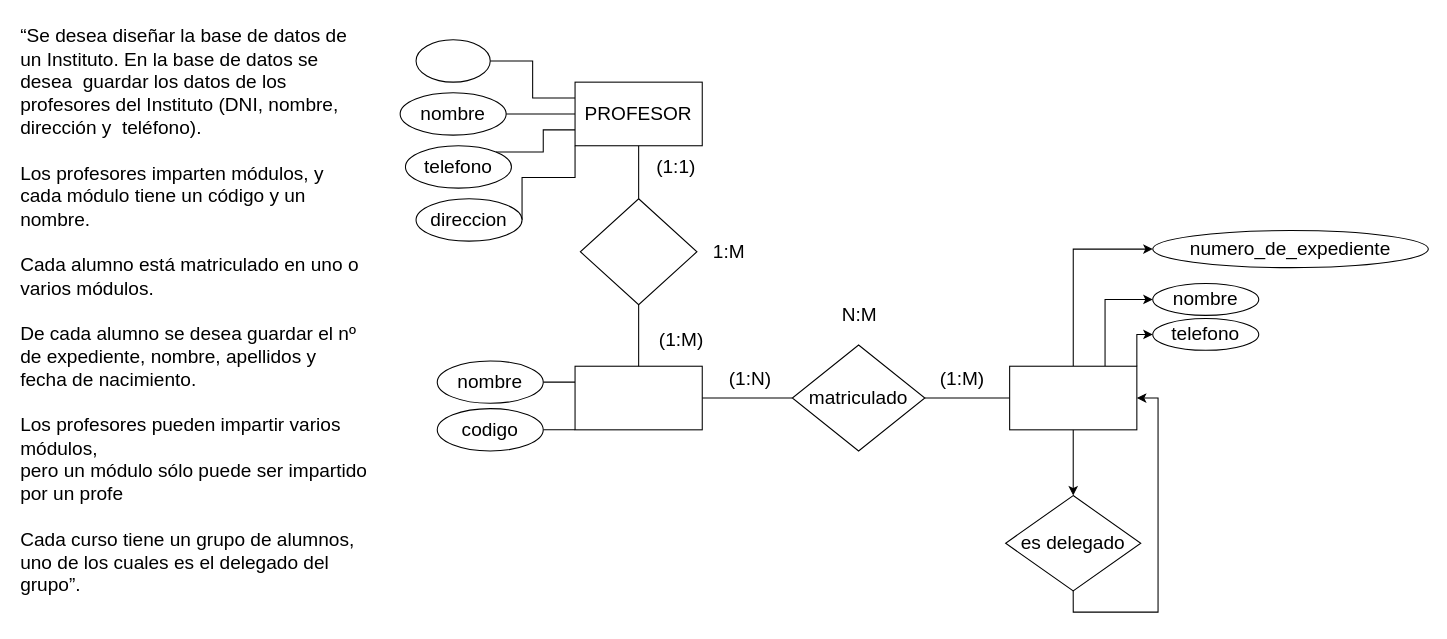
Image size: 1447x639. Some labels were removed from this diagram. Each missing label, with the box of its shape:
ALUMNO: (1009, 365, 1137, 430)
DNI: (415, 39, 490, 82)
imparte: (579, 198, 697, 305)
MATERIA: (574, 365, 702, 430)
